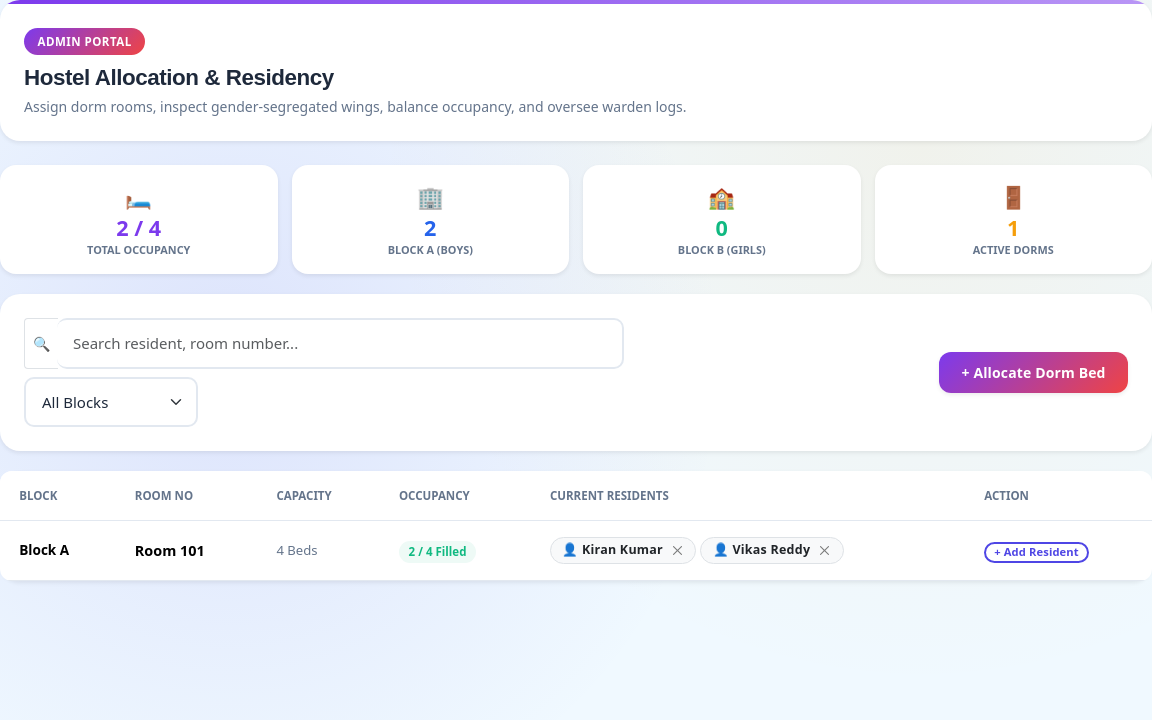
HostelAllocation Admin Page Tests › submits dorm allocation form and updates residency list
The width and height of the screenshot is (1152, 720).
Click the button with test id "open-allocate-btn". click: (1034, 372)
box: [939,352,1128,393]
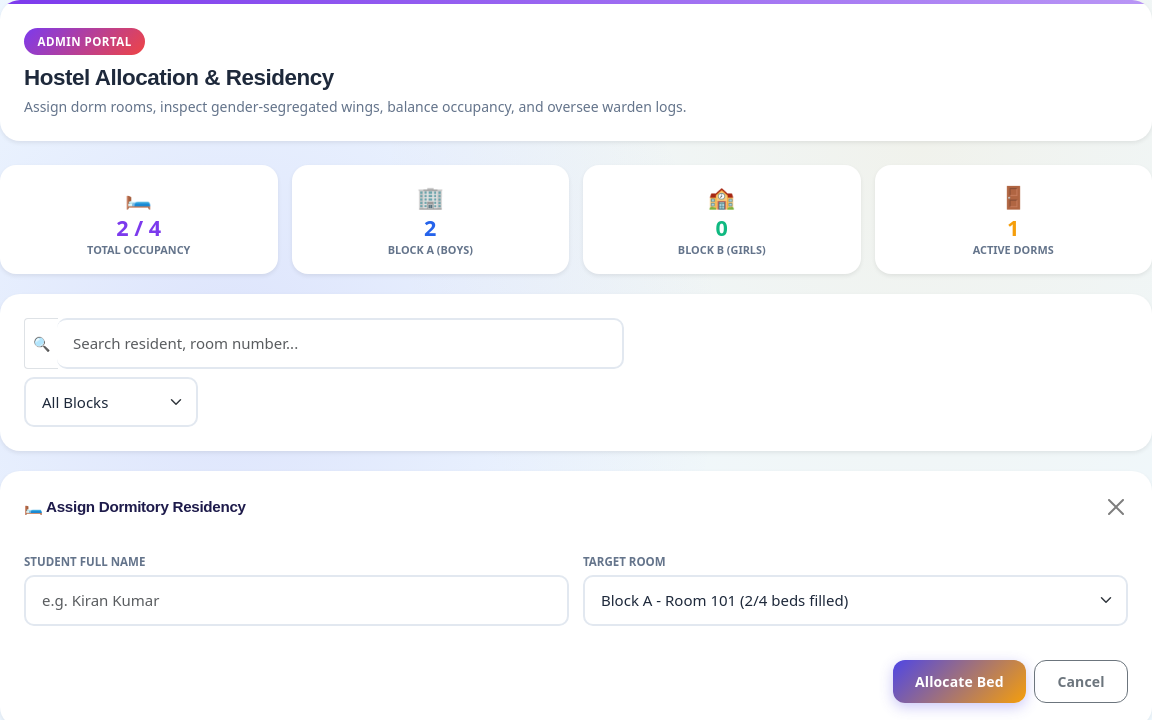
Type "Ramesh V." into the field with placeholder "e.g. Kiran Kumar". click: (296, 600)
box: [24,575,569,626]
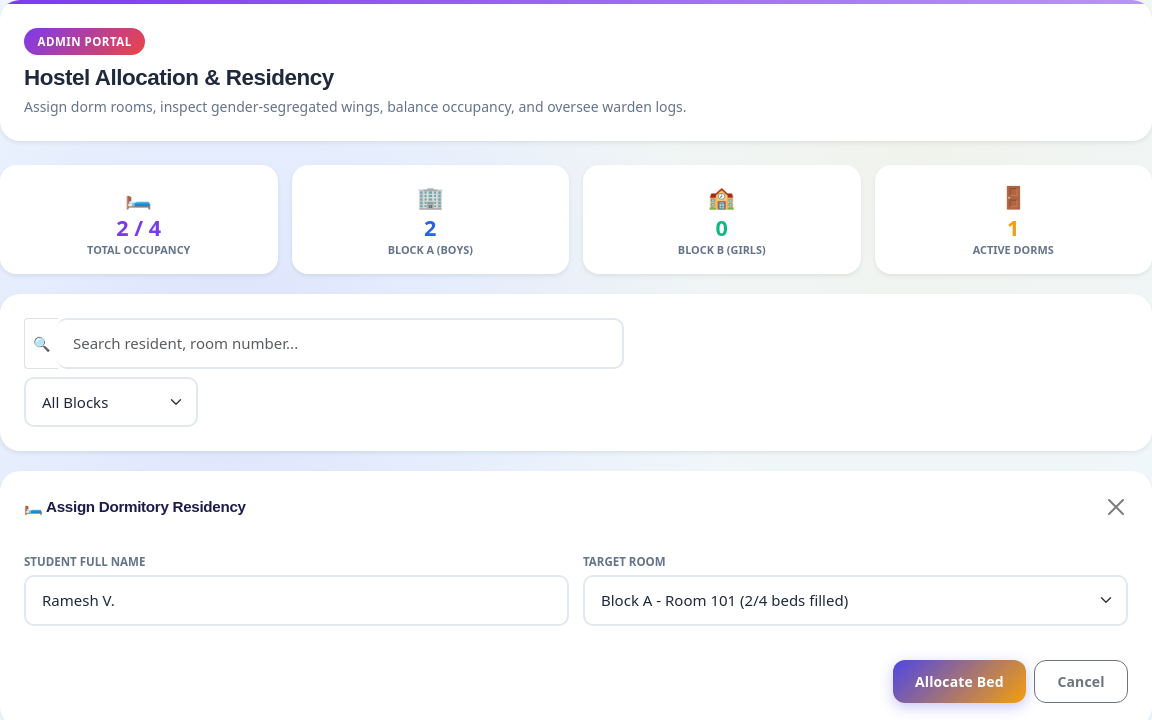
Click the button with test id "submit-allocate-btn". click: (959, 682)
box: [892,660,1026,703]
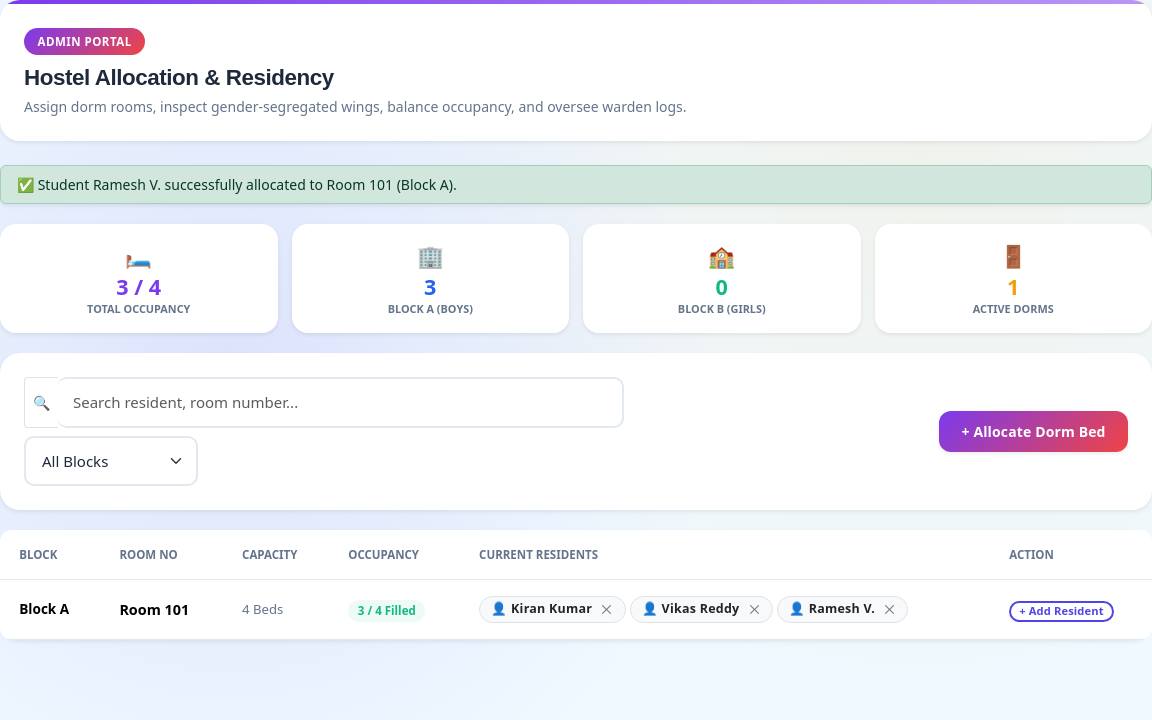
Expected: the text "✅ Student Ramesh V. successfully allocated to Room 101 (Block A)." is shown, [0,165,1151,204]
